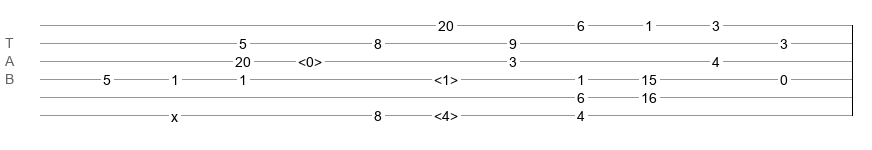0: (780, 72, 788, 82)
1: (171, 72, 179, 82), (239, 72, 247, 82), (577, 72, 585, 82), (645, 18, 653, 28)
15: (641, 72, 657, 82)
16: (641, 90, 657, 100)
20: (235, 54, 251, 64), (438, 18, 454, 28)
3: (509, 54, 517, 64), (712, 18, 720, 28), (780, 36, 788, 46)
4: (577, 108, 585, 118), (712, 54, 720, 64)
5: (103, 72, 111, 82), (239, 36, 247, 46)
6: (577, 90, 585, 100), (577, 18, 585, 28)
8: (374, 36, 382, 46), (374, 108, 382, 118)
9: (509, 36, 517, 46)
harmonic: (298, 54, 322, 64), (434, 72, 458, 82), (434, 108, 458, 118)
x: (171, 109, 178, 117)
